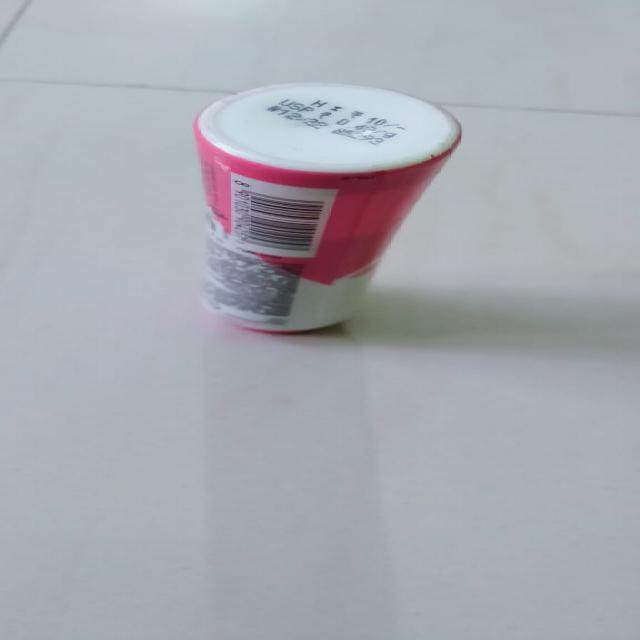powder: (189, 78, 465, 336)
